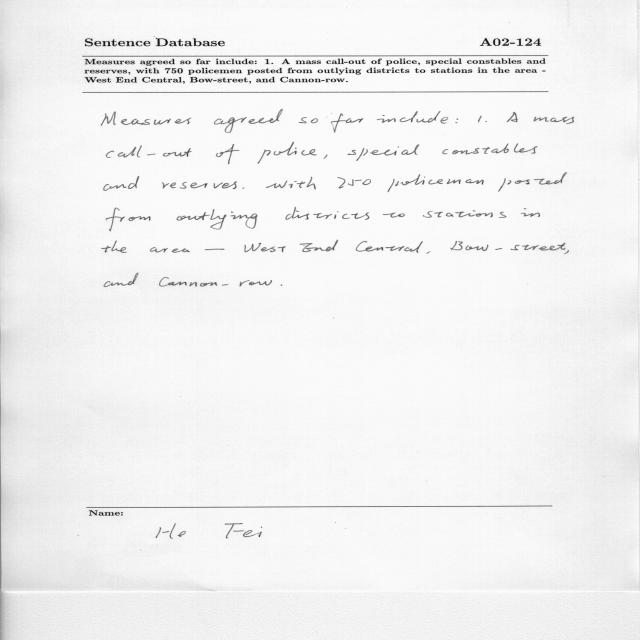word: (387, 174, 484, 192), (177, 209, 258, 230), (214, 109, 283, 133), (102, 111, 192, 126), (498, 173, 567, 192), (258, 142, 317, 164), (348, 144, 420, 161), (450, 241, 565, 251), (159, 277, 272, 287), (107, 145, 192, 158), (286, 207, 370, 220), (442, 144, 538, 155), (106, 208, 151, 231), (377, 111, 448, 124), (356, 241, 423, 253), (423, 210, 506, 218), (266, 177, 316, 190), (331, 114, 363, 133), (162, 181, 237, 189), (104, 176, 140, 191), (104, 273, 139, 287), (216, 144, 239, 164), (300, 240, 338, 252), (337, 177, 371, 189), (244, 243, 286, 252), (102, 240, 127, 253), (534, 117, 575, 124), (150, 247, 190, 253), (521, 208, 540, 217), (299, 117, 318, 123), (507, 112, 518, 122), (383, 213, 405, 218), (478, 116, 482, 122), (324, 154, 328, 159), (205, 249, 225, 250), (564, 250, 569, 254), (456, 119, 459, 124), (427, 251, 431, 254), (243, 187, 245, 189), (485, 121, 487, 122), (281, 284, 282, 286)
